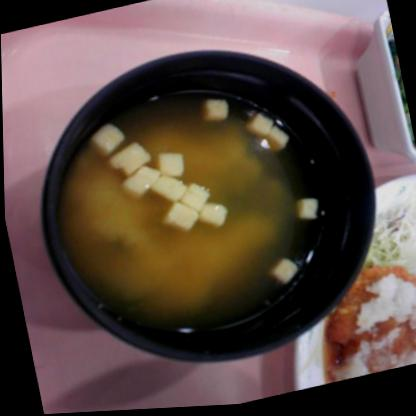miso soup: (37, 60, 363, 374)
